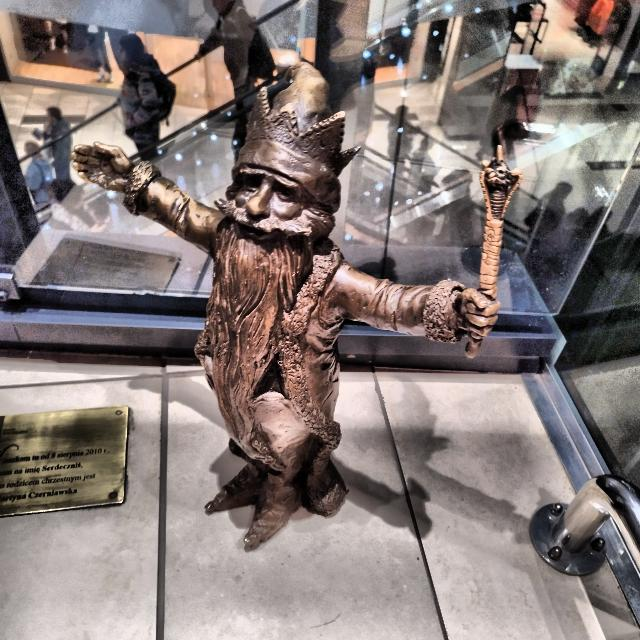Serdecznis: (70, 36, 520, 553)
